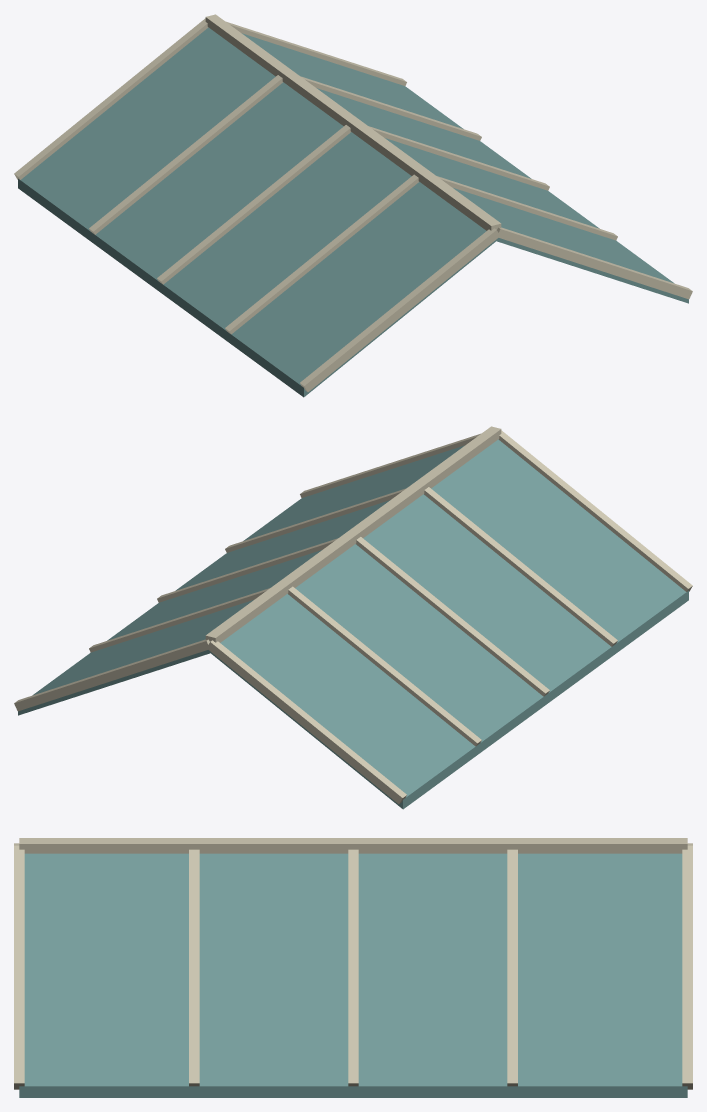
File: Backyard_GreenhouseRoof_Standard.glb
3 renders of one model, top to bottom at view 1: azimuth 30°, elevation 25°; view 2: azimuth 150°, elevation 25°; view 3: azimuth 270°, elevation 25°, orthographic. The views are drawn at different scales.
Visible parts, largest first — view 1: Backyard_GreenhouseRoof_Standard; view 2: Backyard_GreenhouseRoof_Standard; view 3: Backyard_GreenhouseRoof_Standard.
Boxes of the visible parts, <box> form: Backyard_GreenhouseRoof_Standard: <box>14,14,692,397</box>; Backyard_GreenhouseRoof_Standard: <box>14,426,692,809</box>; Backyard_GreenhouseRoof_Standard: <box>14,838,692,1097</box>.
Bounding box in the file's own units: 4.95 × 1.53 × 6.4.
